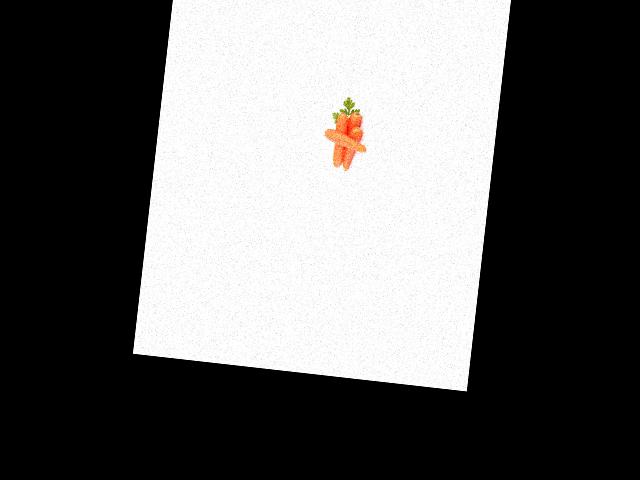carrot: (340, 111, 363, 164)
